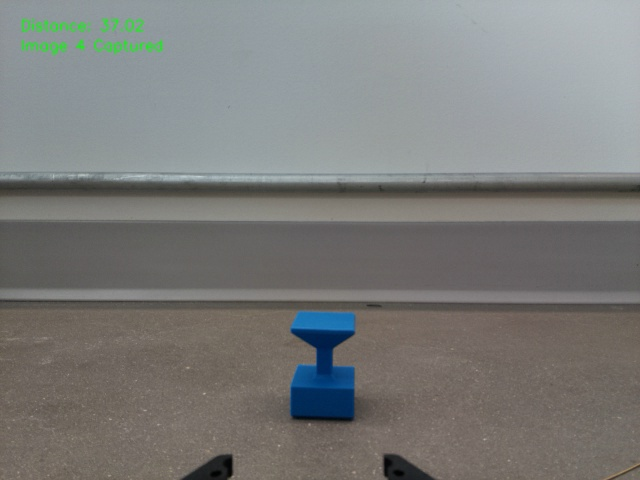block: (287, 310, 358, 421)
